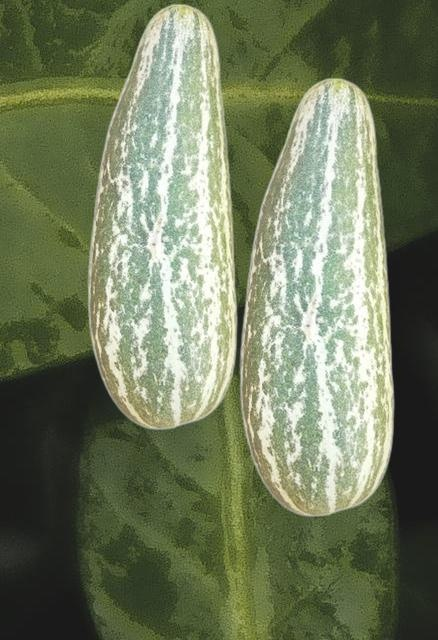cucumber: (239, 77, 394, 516), (87, 3, 237, 429)
